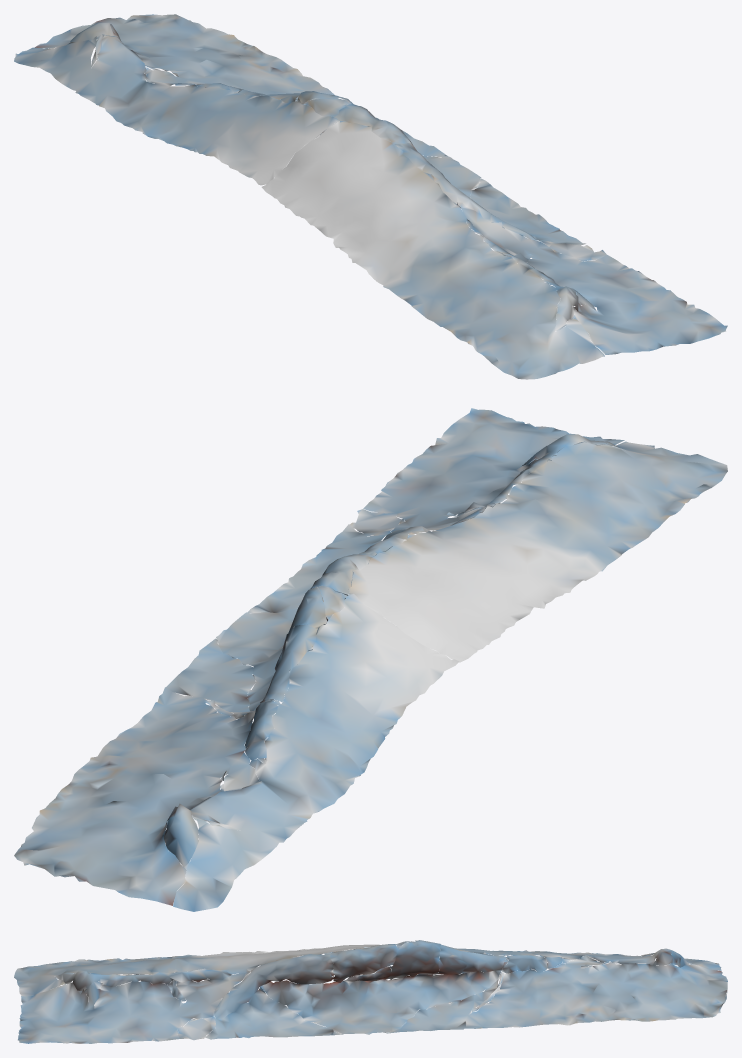
The model's file is single_root_lod0.glb.
The picture shows the model from 3 angles, top to bottom: view 1: azimuth 30°, elevation 25°; view 2: azimuth 150°, elevation 25°; view 3: azimuth 270°, elevation 25°; orthographic projection. The views are drawn at different scales.
Visible parts, largest first — view 1: single_root; view 2: single_root; view 3: single_root.
Part boxes in pixels (box(x1,y1,x2,y2)): single_root: box(14, 14, 727, 379); single_root: box(14, 408, 727, 911); single_root: box(14, 940, 727, 1043).
Size of the model in its own units: 0.555 by 0.1782 by 1.84.
